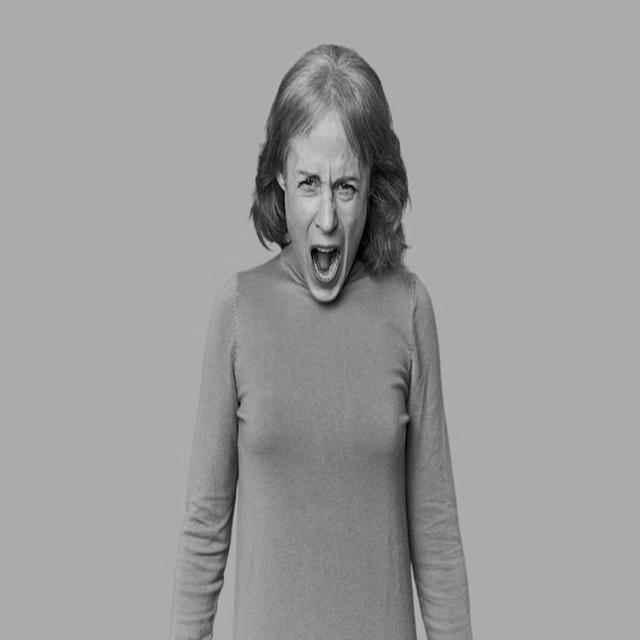Angry: (284, 118, 368, 302)
